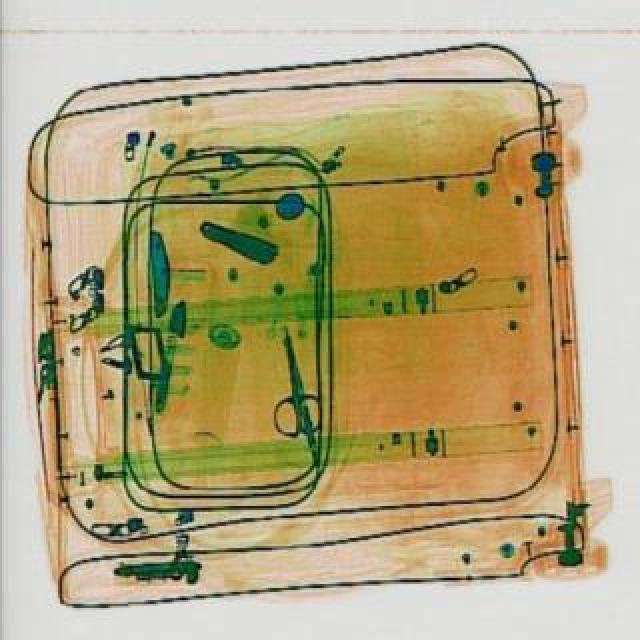pliers: (260, 334, 324, 436)
